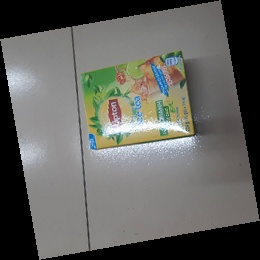LipTon: (80, 50, 197, 152)
